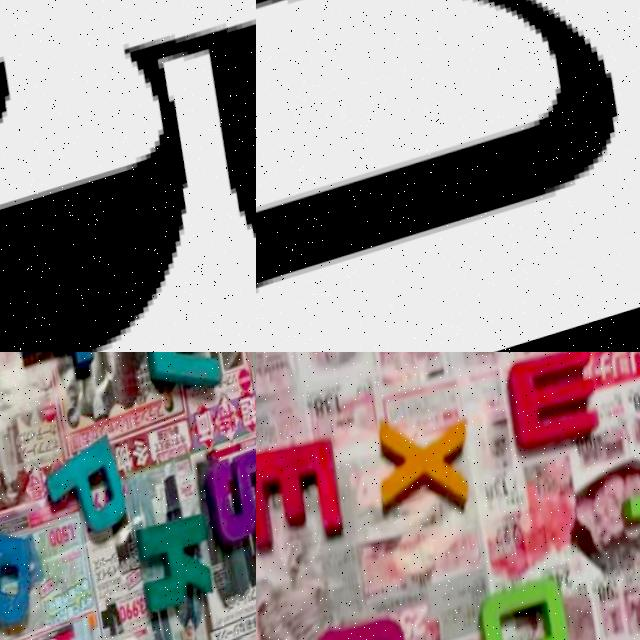5: (0, 0, 256, 352)
B: (0, 518, 52, 640)
C: (473, 580, 583, 640)
E: (256, 426, 358, 567)
K: (137, 520, 227, 626)
N: (256, 0, 640, 352)
O: (312, 612, 429, 640)
P: (43, 439, 139, 550)
S: (198, 450, 256, 550)
T: (1, 352, 102, 386)
V: (137, 352, 232, 410)
W: (498, 352, 612, 460)
X: (369, 409, 488, 534)
Y: (616, 466, 640, 562)
